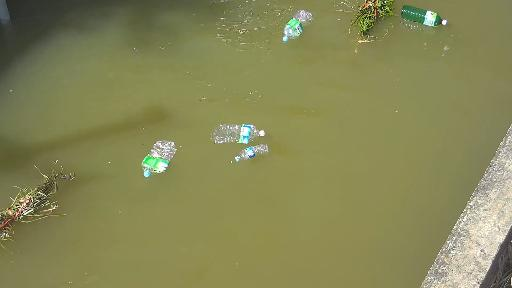plastic: (130, 143, 182, 178), (397, 2, 455, 29), (205, 120, 267, 145), (276, 9, 318, 42), (230, 146, 273, 162)
twig: (0, 158, 72, 246), (333, 0, 398, 41)
